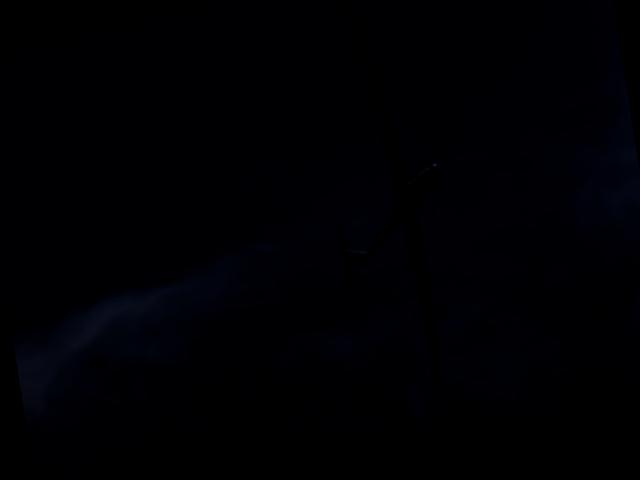iha: (293, 0, 475, 416)
